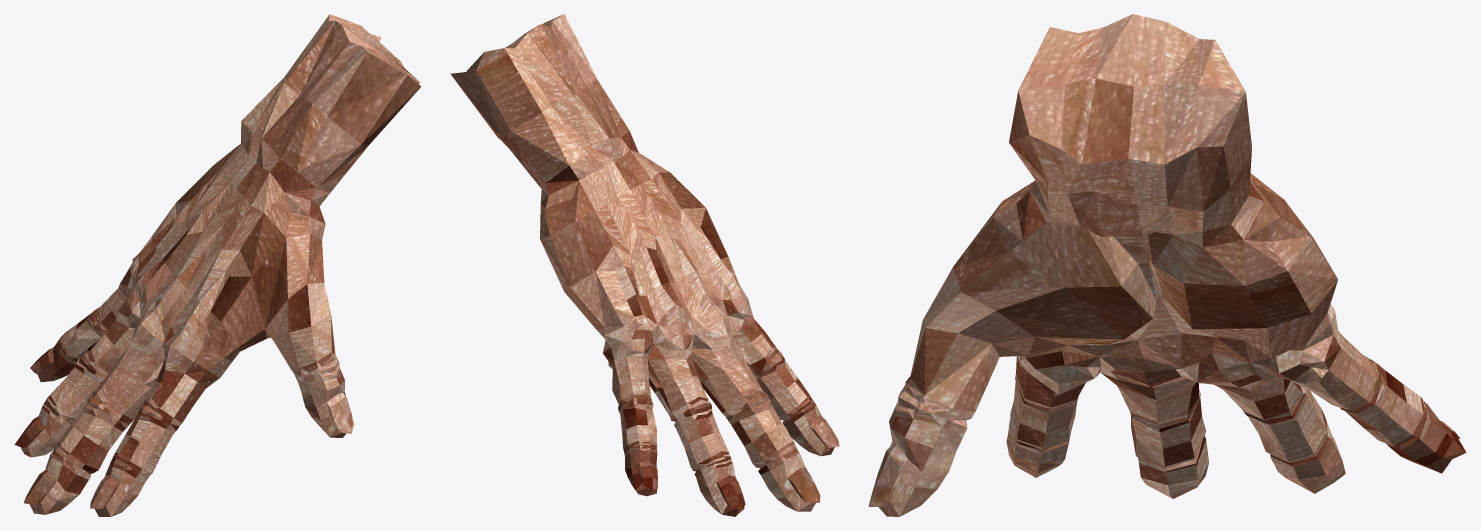
The model's file is hand.OBJ.
3 views of the same model, side by side, from view 1: azimuth 30°, elevation 25°; view 2: azimuth 150°, elevation 25°; view 3: azimuth 270°, elevation 25° (orthographic). The views are drawn at different scales.
Visible parts, largest first — view 1: hand; view 2: hand; view 3: hand.
Boxes of the visible parts, x1,y1,x2,y2 form: hand: (14, 14, 421, 516); hand: (450, 14, 839, 516); hand: (868, 14, 1466, 516).
Bounding box in the file's own units: 14.14 × 15.56 × 11.9.
1 material, 1 textured.
